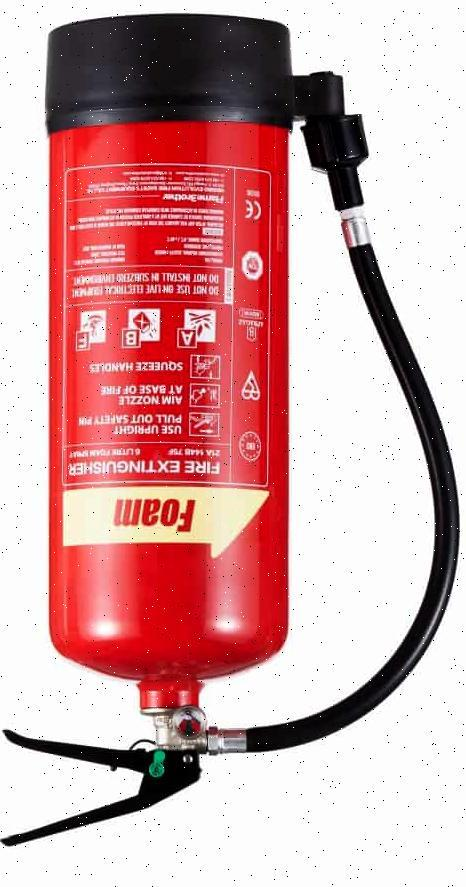Fire Extinguisher: (0, 0, 466, 858)
